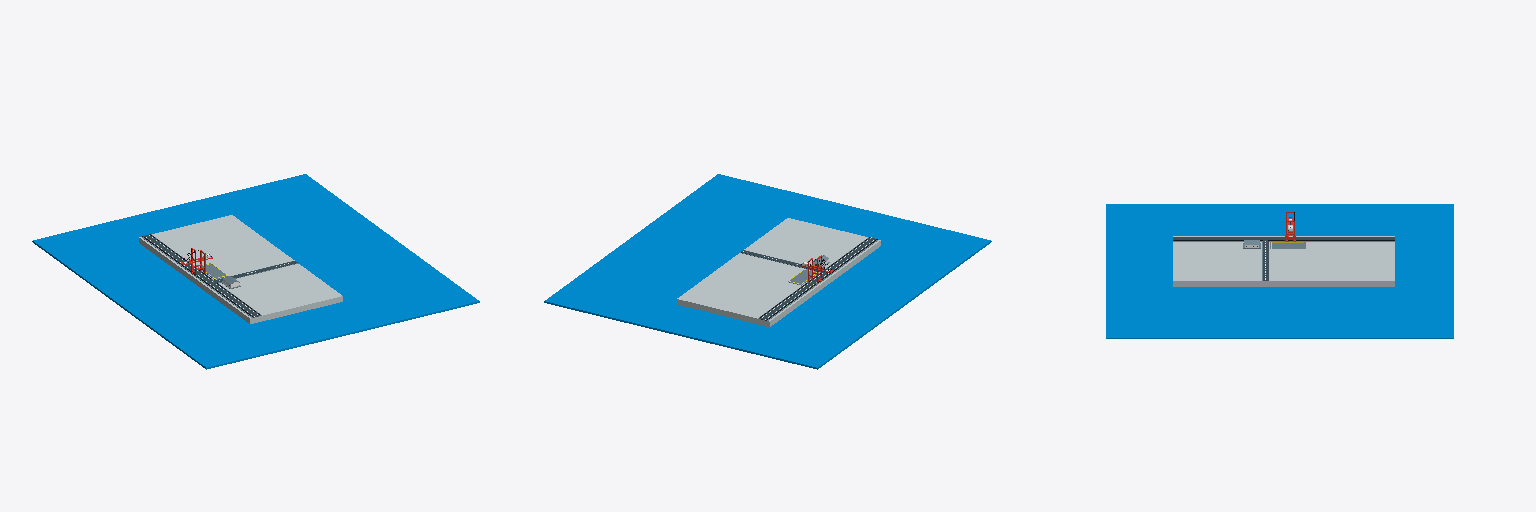
Rendered from bigger_platform.obj.
3 renders of one model, left to right at view 1: azimuth 30°, elevation 25°; view 2: azimuth 150°, elevation 25°; view 3: azimuth 270°, elevation 25°, orthographic.
Visible parts, largest first — view 1: Ground_mesh[number redacted].001; view 2: Ground_mesh[number redacted].001; view 3: Ground_mesh[number redacted].001.
Part boxes in pixels (x1,y1,x2,y2): Ground_mesh[number redacted].001: (32, 174, 479, 369); Ground_mesh[number redacted].001: (544, 174, 991, 369); Ground_mesh[number redacted].001: (1106, 204, 1453, 338).
Bounding box in the file's own units: 23.24 × 2.71 × 25.61.